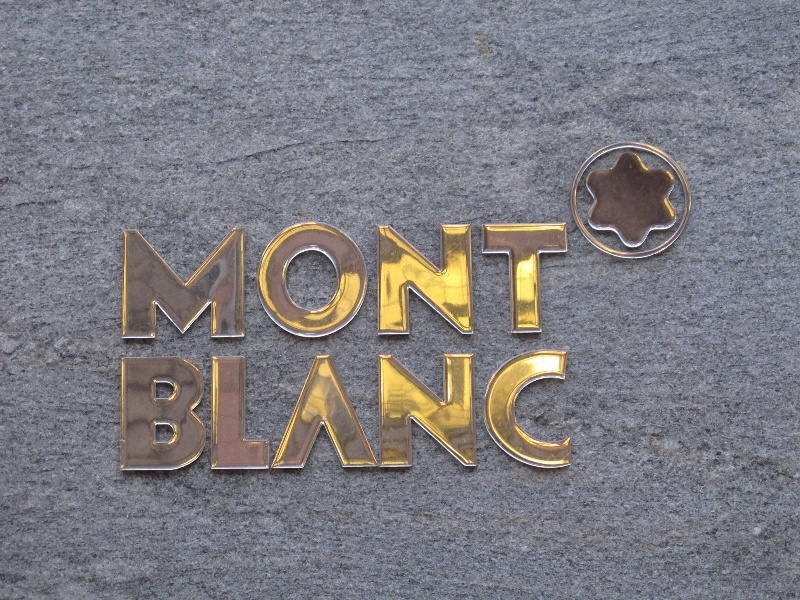text: (129, 351, 144, 475), (145, 351, 160, 475), (161, 351, 176, 475), (177, 351, 192, 475), (193, 351, 208, 475), (209, 351, 224, 475), (225, 351, 240, 475), (241, 351, 256, 475), (257, 351, 272, 475), (273, 351, 288, 475), (289, 351, 304, 475), (305, 351, 320, 475), (321, 351, 336, 475), (337, 351, 352, 475), (353, 351, 368, 475), (369, 351, 384, 475), (385, 351, 400, 475), (401, 351, 416, 475), (417, 351, 432, 475), (433, 351, 448, 475), (449, 351, 464, 475), (465, 351, 480, 475), (481, 351, 496, 475), (497, 351, 512, 475), (513, 351, 528, 475), (529, 351, 544, 475), (545, 351, 560, 475), (129, 221, 144, 343), (145, 221, 160, 343), (161, 221, 176, 343), (177, 221, 192, 343), (193, 221, 208, 343), (209, 221, 224, 343), (225, 221, 240, 343), (241, 221, 256, 343), (257, 221, 272, 343), (273, 221, 288, 343), (289, 221, 304, 343), (305, 221, 320, 343), (321, 221, 336, 343), (337, 221, 352, 343), (353, 221, 368, 343), (369, 221, 384, 343), (385, 221, 400, 343), (401, 221, 416, 343), (417, 221, 432, 343), (433, 221, 448, 343), (449, 221, 464, 343), (465, 221, 480, 343), (481, 221, 496, 343), (497, 221, 512, 343), (513, 221, 528, 343), (529, 221, 544, 343), (545, 221, 560, 343), (561, 351, 573, 475), (561, 221, 569, 343), (121, 351, 128, 475), (122, 221, 128, 343)
